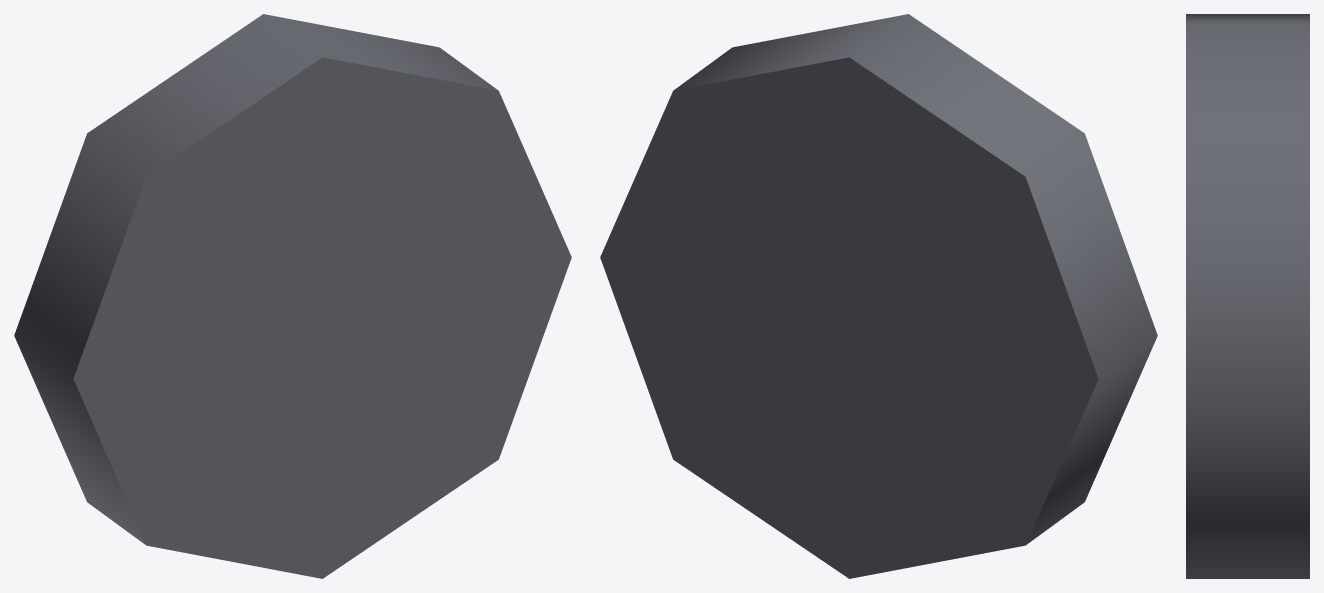
File: Char_HAL_Eye.FBX
3 views of the same model, side by side, from view 1: azimuth 30°, elevation 25°; view 2: azimuth 150°, elevation 25°; view 3: azimuth 270°, elevation 25° (orthographic). The views are drawn at different scales.
Parts seen in each view (by area): view 1: Cylinder002; view 2: Cylinder002; view 3: Cylinder002.
Boxes of the visible parts, <box> form: Cylinder002: <box>14,14,571,578</box>; Cylinder002: <box>600,14,1157,578</box>; Cylinder002: <box>1186,14,1309,578</box>.
Size of the model in its own units: 2.51 by 2.51 by 0.5169.
